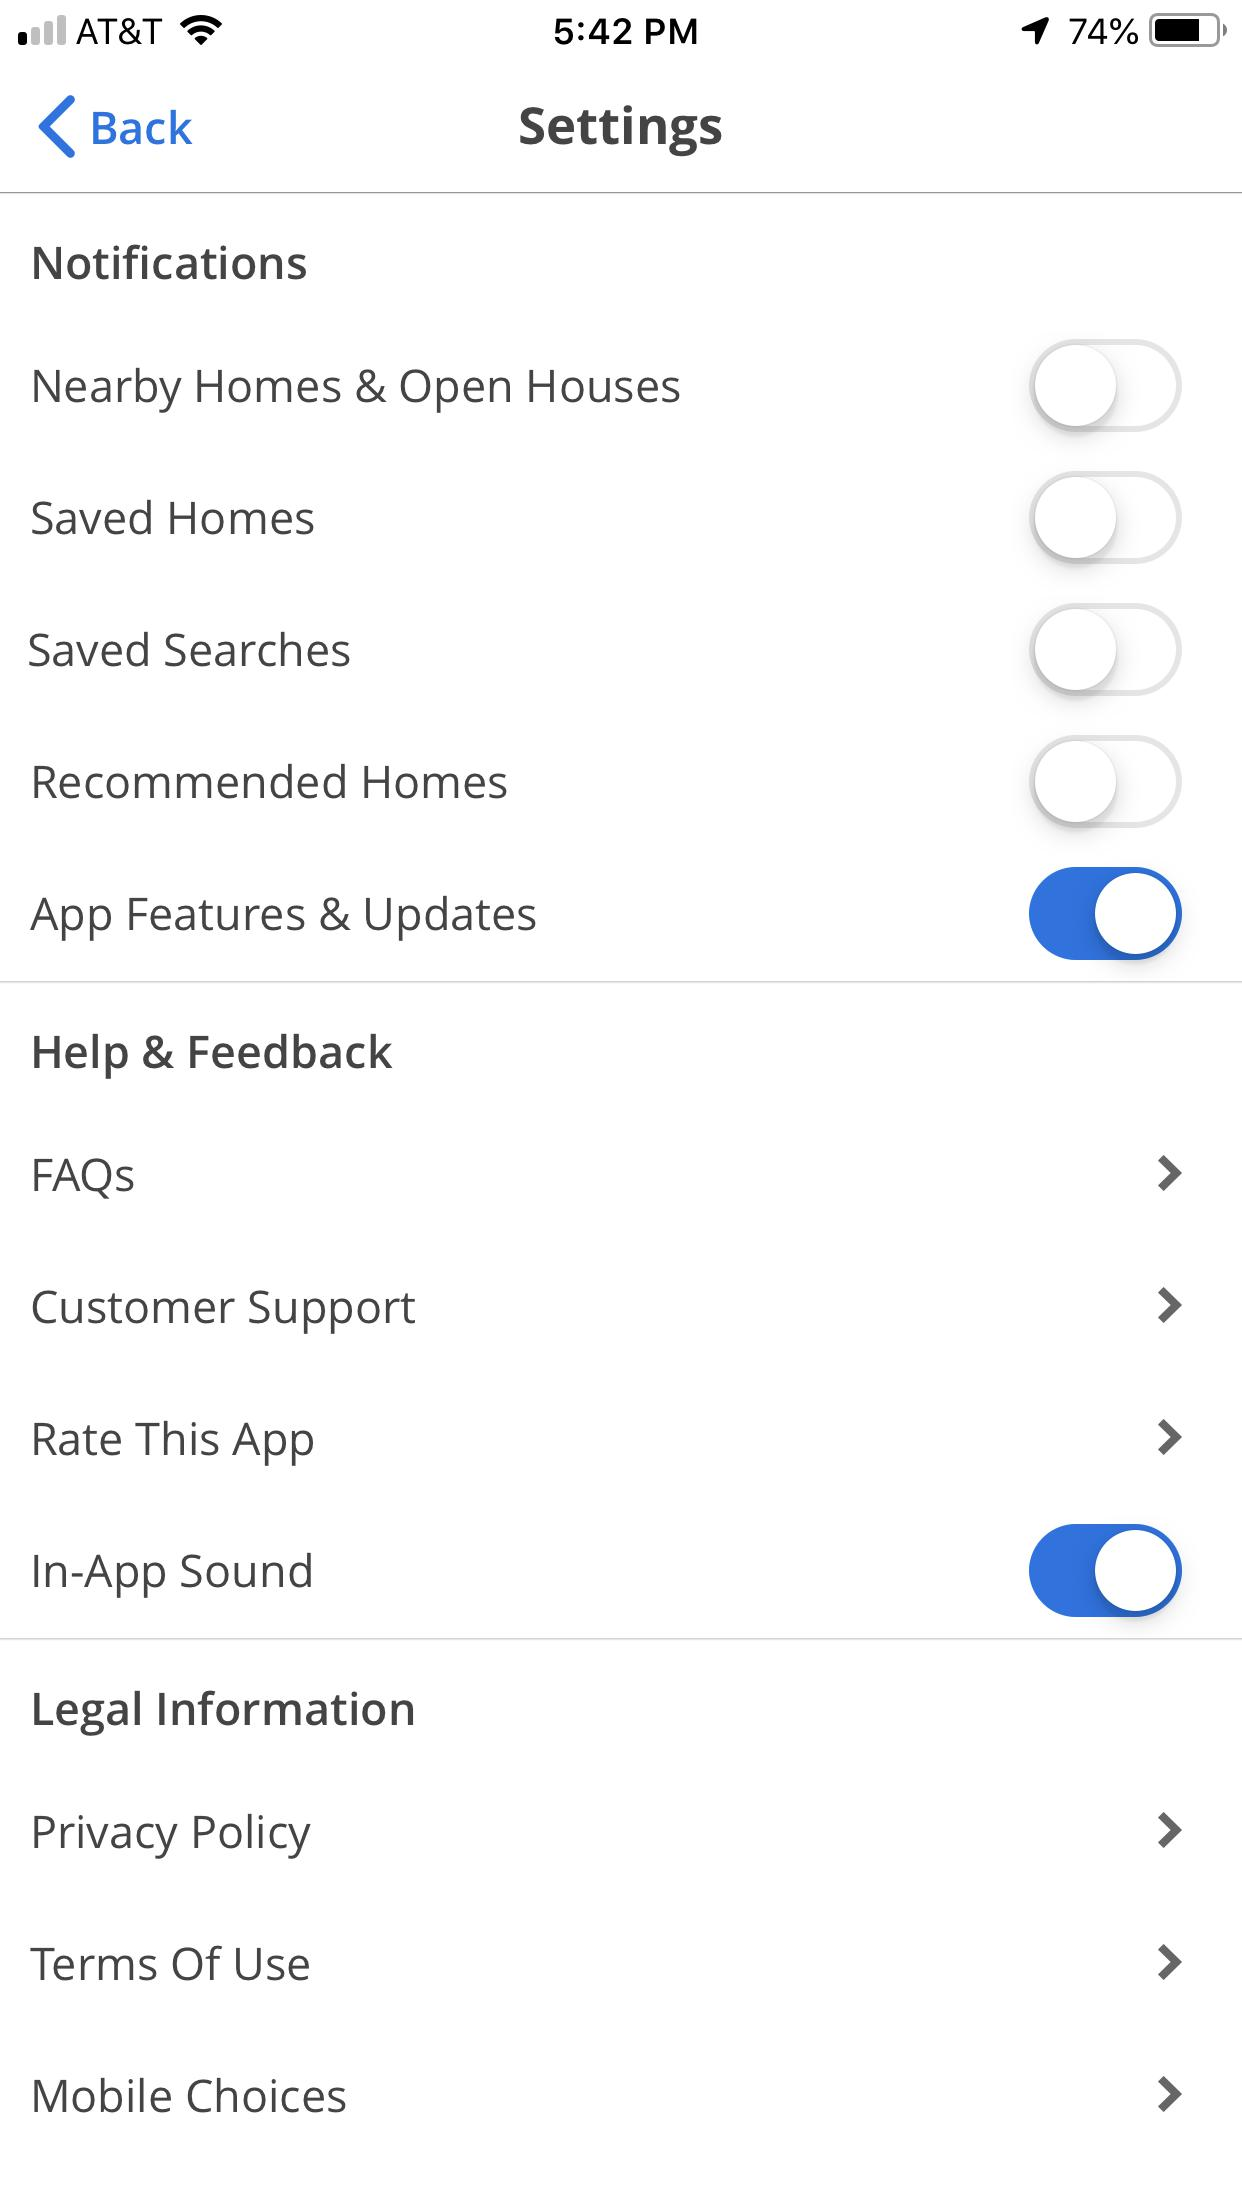Icon: (36, 93, 77, 161), (1156, 1418, 1183, 1456), (1156, 1154, 1183, 1192), (1159, 2075, 1184, 2112), (1157, 1943, 1183, 1981), (1157, 1811, 1183, 1849), (1157, 1287, 1183, 1324)
Switch: (1027, 866, 1183, 961), (1028, 1523, 1183, 1618), (1028, 602, 1183, 698), (1028, 338, 1183, 434), (1028, 470, 1181, 566), (1028, 735, 1183, 830)
Text: (33, 367, 681, 414), (29, 896, 537, 942), (32, 1289, 417, 1336), (33, 763, 508, 801), (33, 1689, 416, 1736), (33, 1033, 394, 1081), (33, 1419, 315, 1468), (33, 1551, 314, 1600), (33, 1812, 312, 1861), (27, 631, 350, 669), (33, 2076, 347, 2114), (520, 105, 726, 159), (32, 499, 315, 538), (30, 1944, 311, 1984), (33, 244, 308, 282), (33, 1157, 136, 1200), (93, 109, 199, 146)
UpperTaskBar: (2, 2, 1242, 50)
